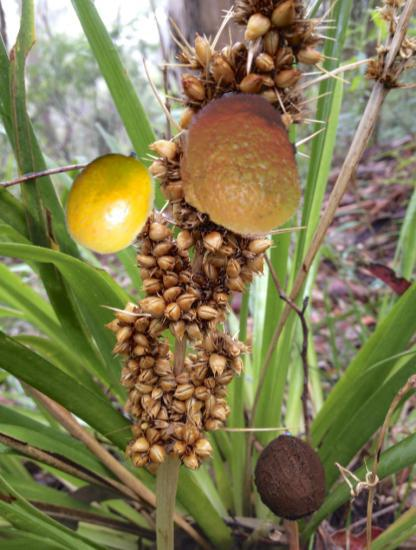Cocos: (244, 432, 337, 525)
Mandarine: (166, 92, 313, 239)
Maracuja: (55, 147, 164, 256)
